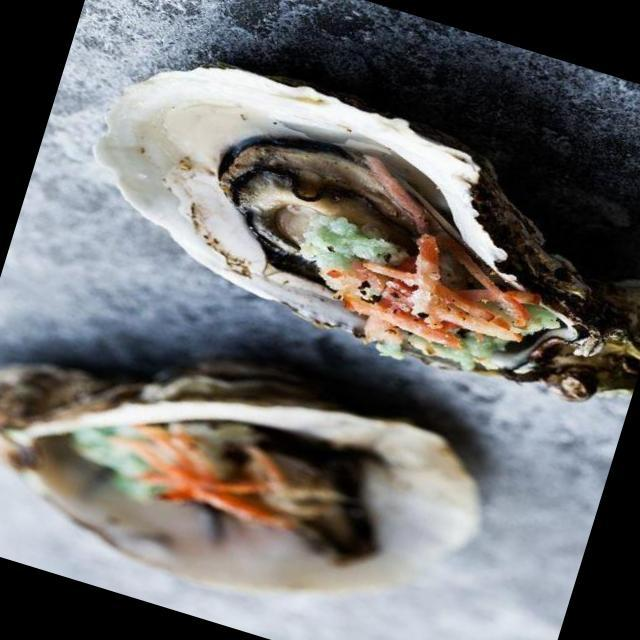Oyster-Open: (65, 25, 640, 433), (0, 288, 505, 640)
